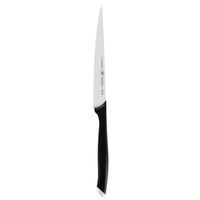knife: (88, 3, 116, 194)
